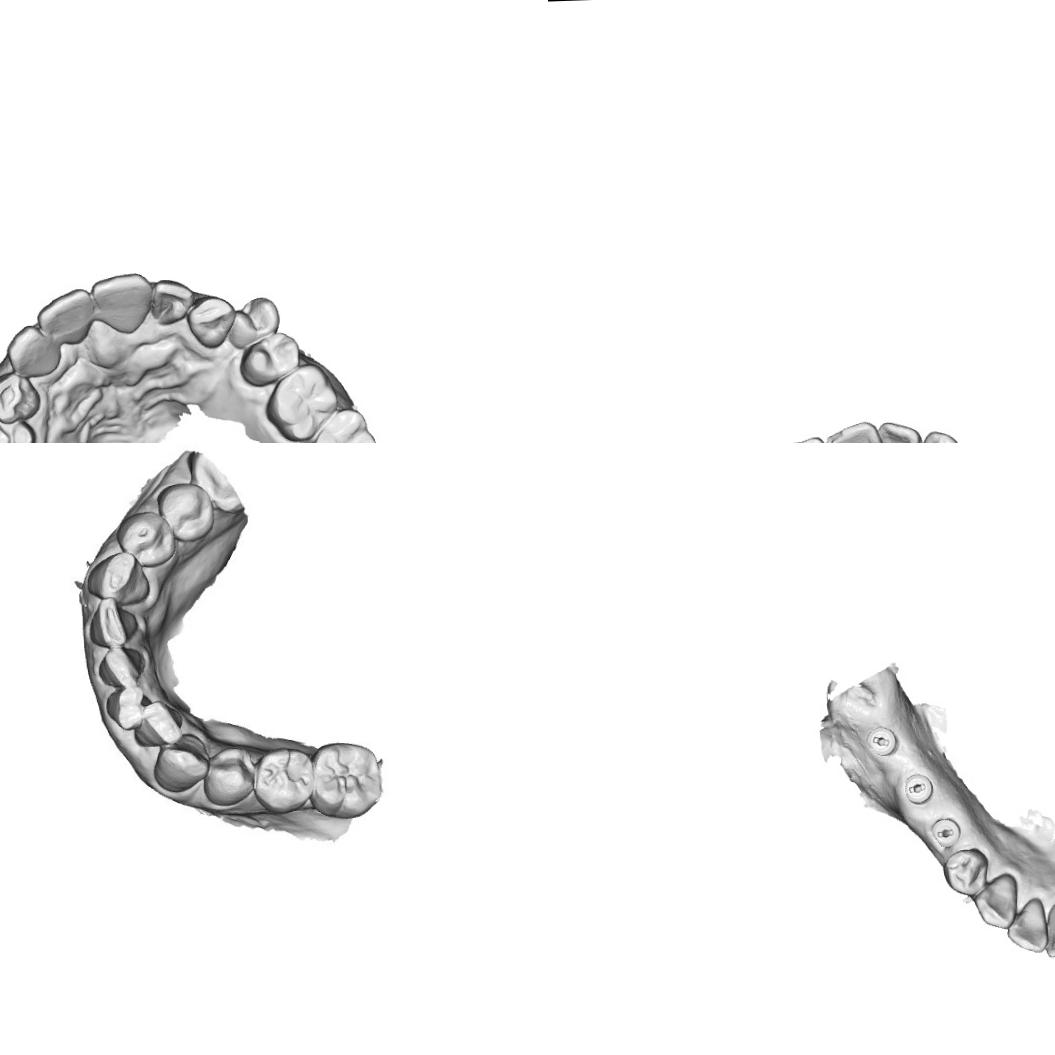canine: (150, 732, 212, 794), (88, 548, 147, 610), (185, 291, 238, 350), (972, 870, 1020, 930), (0, 370, 43, 425), (916, 427, 971, 443)
implant: (862, 722, 902, 758)
implant_minus: (902, 770, 936, 806), (928, 815, 962, 849)
incisor: (88, 272, 154, 336), (33, 286, 95, 348), (4, 322, 62, 380), (88, 596, 139, 651), (1004, 895, 1048, 954), (148, 277, 196, 327), (140, 700, 188, 749), (103, 684, 150, 734), (101, 644, 144, 688), (824, 418, 887, 443), (876, 417, 922, 443), (1043, 898, 1055, 959)
molar: (262, 361, 342, 443), (316, 740, 386, 818), (301, 405, 380, 443)
premolar: (252, 744, 318, 812), (156, 478, 216, 546), (237, 330, 302, 390), (117, 507, 176, 572), (206, 744, 261, 802), (226, 294, 282, 350), (941, 847, 990, 900), (0, 417, 38, 443)
